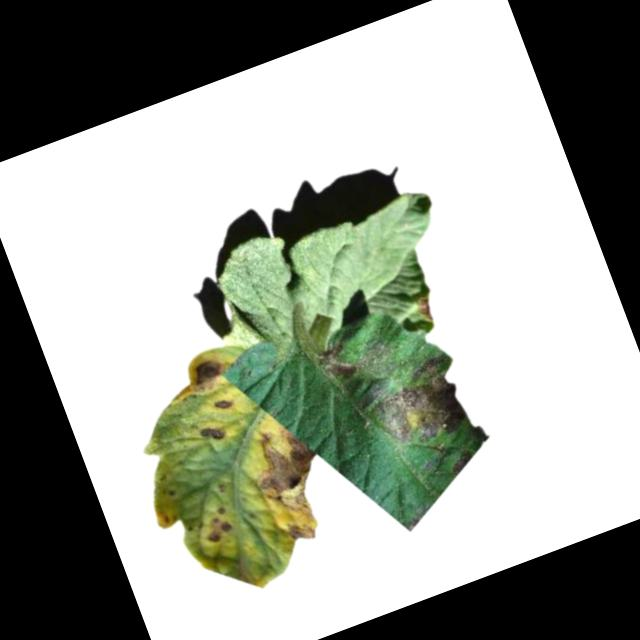Early_blight: (239, 416, 344, 551), (354, 349, 474, 457), (313, 338, 362, 385), (183, 349, 231, 389), (194, 502, 235, 545), (195, 420, 224, 446), (413, 292, 436, 323), (213, 394, 234, 411)
